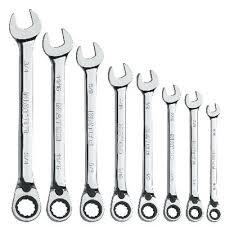wrench: (8, 7, 41, 221), (41, 27, 73, 221), (75, 40, 104, 221), (105, 62, 133, 221), (134, 68, 158, 221), (160, 82, 181, 221), (183, 89, 203, 221), (204, 101, 220, 221)
